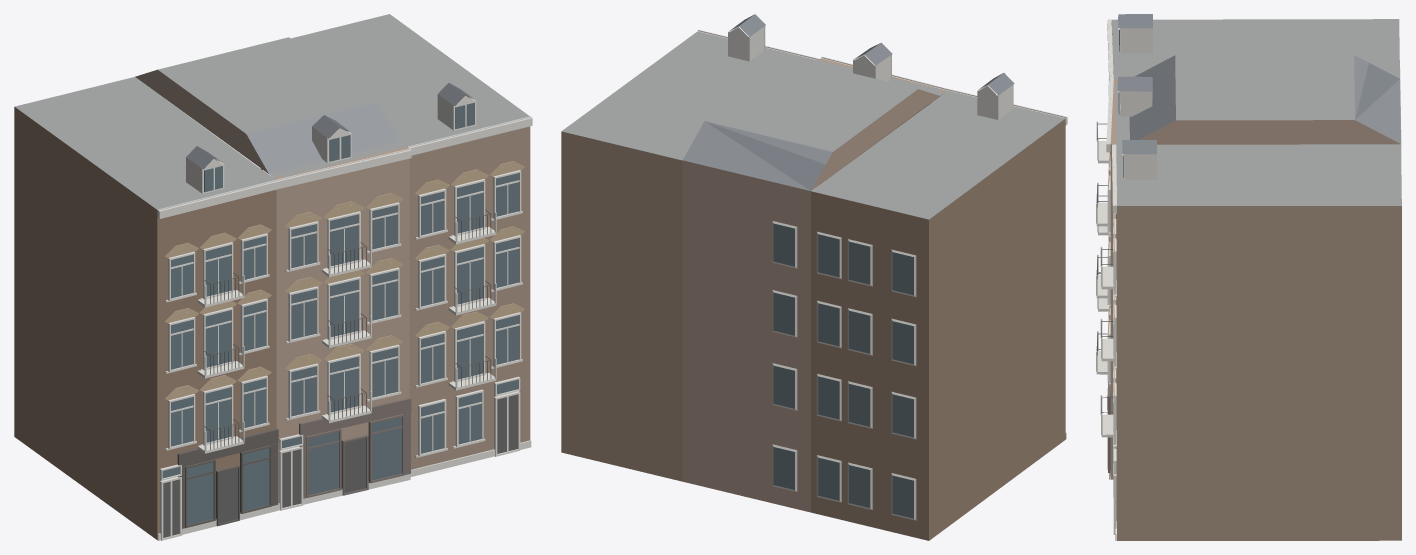
Rendered from chunk-face-helmers-23-57-r1.glb.
The picture shows the model from 3 angles, left to right: view 1: azimuth 30°, elevation 25°; view 2: azimuth 150°, elevation 25°; view 3: azimuth 270°, elevation 25°; orthographic projection. The views are drawn at different scales.
Visible parts, largest first — view 1: face-helmers-23-57-r1; view 2: face-helmers-23-57-r1; view 3: face-helmers-23-57-r1.
Part boxes in pixels (left/top/right/bottom): face-helmers-23-57-r1: left=14, top=14, right=532, bottom=540; face-helmers-23-57-r1: left=561, top=14, right=1067, bottom=540; face-helmers-23-57-r1: left=1096, top=14, right=1401, bottom=540.
Bounding box in the file's own units: 18.13 × 16.78 × 12.55.
